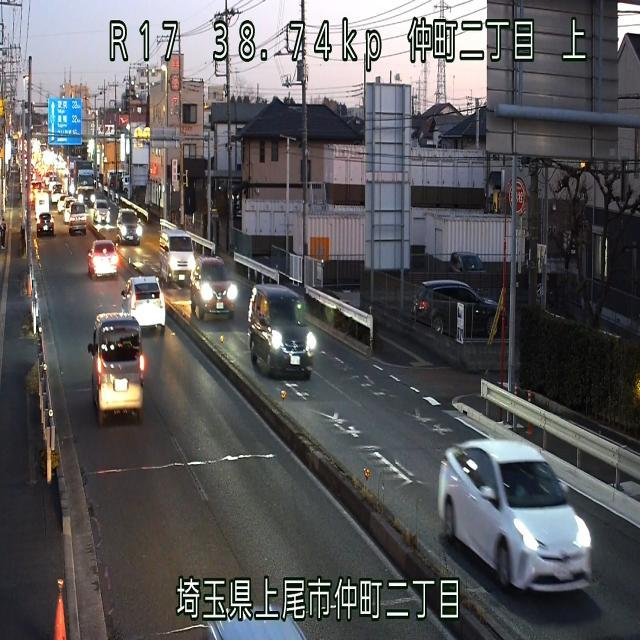Car: (436, 437, 593, 594), (246, 282, 317, 379), (411, 279, 501, 339), (189, 255, 238, 321)
MiniBus: (87, 311, 145, 423)
Traffic-sign: (46, 96, 82, 145)
